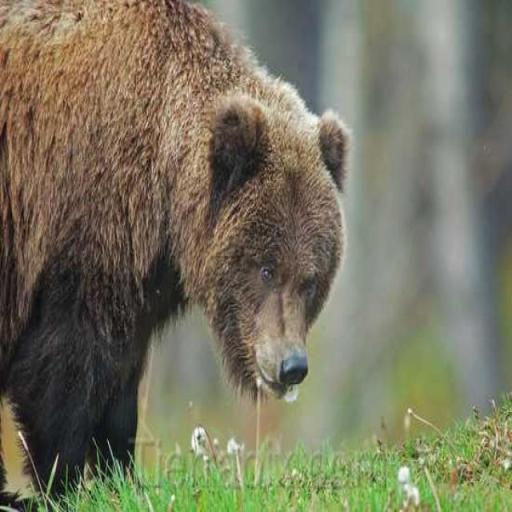Bear: (0, 0, 351, 510)
